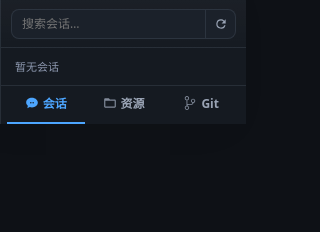
Test case: RightPanel Tab 栏 › Tab 切换保留资源树展开状态（v-show）
切到资源 Tab：展开 src，main.ts 出现
Click the tab "资源": (124, 105) [85,86,162,124]
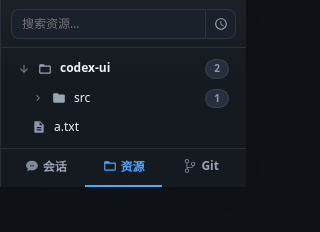
Click the element with class "resource-dir": (38, 98) [32,88,229,108]
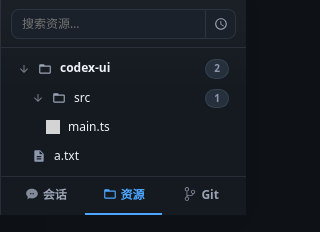
Check: the element with class "resource-view" shows "main.ts", box [68,118,110,135]
切回会话再切回资源：组件实例与展开状态保留
Click the tab "会话": (46, 196) [7,177,85,215]
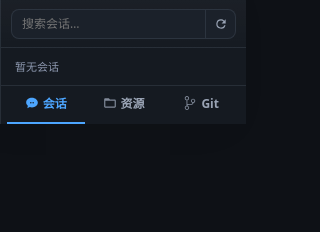
Click the tab "资源": (124, 105) [85,86,162,124]
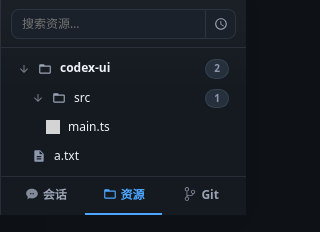
Check: the element showing "codex-ui 2 src 1 main.ts a.txt" is shown, box [1,0,246,176]
Check: the element with class "resource-view" shows "main.ts", box [68,118,110,135]
